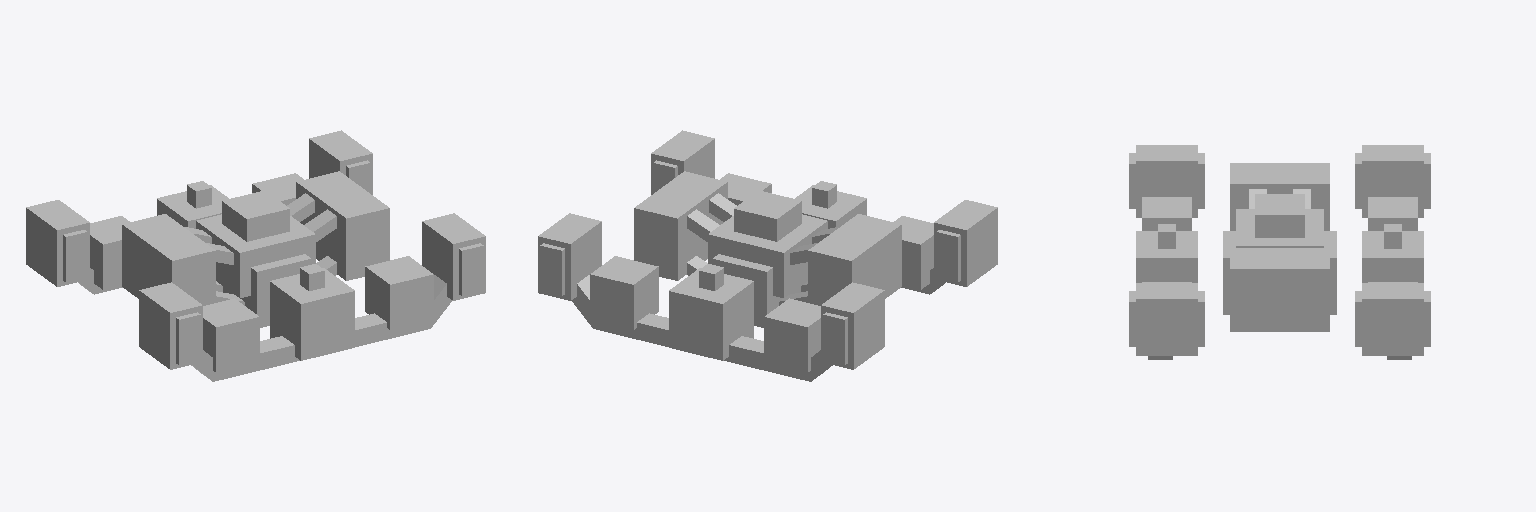
File: frame.obj
The picture shows the model from 3 angles: view 1: azimuth 30°, elevation 25°; view 2: azimuth 150°, elevation 25°; view 3: azimuth 270°, elevation 25°; orthographic projection.
Parts seen in each view (by area): view 1: cube_27, cube_32, cube_12, cube_31, cube_16, cube_29, cube_4, cube_1, cube_7, cube_14, cube_38, cube_28 (+12 smaller); view 2: cube_27, cube_32, cube_19, cube_30, cube_16, cube_28, cube_1, cube_4, cube_10, cube_14, cube_33, cube_29 (+12 smaller); view 3: cube_32, cube_7, cube_10, cube_27, cube_1, cube_4, cube_12, cube_19, cube_14, cube_16, cube_28, cube_29 (+1 smaller).
Boxes of the visible parts, <box> form: cube_27: <box>122,214,215,305</box>; cube_32: <box>296,171,389,280</box>; cube_12: <box>270,268,354,360</box>; cube_31: <box>365,256,433,329</box>; cube_16: <box>196,214,315,297</box>; cube_29: <box>203,298,259,372</box>; cube_4: <box>26,200,89,286</box>; cube_1: <box>139,282,202,369</box>; cube_7: <box>422,213,485,300</box>; cube_14: <box>222,190,289,241</box>; cube_38: <box>213,313,430,381</box>; cube_28: <box>90,216,129,289</box>; cube_27: <box>808,214,901,305</box>; cube_32: <box>634,171,727,280</box>; cube_19: <box>669,268,753,360</box>; cube_30: <box>590,256,658,329</box>; cube_16: <box>708,214,827,297</box>; cube_28: <box>764,298,820,372</box>; cube_1: <box>934,200,997,286</box>; cube_4: <box>821,282,884,369</box>; cube_10: <box>538,213,601,300</box>; cube_14: <box>734,190,801,241</box>; cube_33: <box>593,313,810,381</box>; cube_29: <box>894,216,933,289</box>; cube_32: <box>1230,248,1329,331</box>; cube_7: <box>1136,283,1197,355</box>; cube_10: <box>1362,283,1423,355</box>; cube_27: <box>1230,163,1329,230</box>; cube_1: <box>1136,145,1197,217</box>; cube_4: <box>1362,145,1423,217</box>; cube_12: <box>1136,231,1197,282</box>; cube_19: <box>1362,231,1423,282</box>; cube_14: <box>1255,194,1304,237</box>; cube_16: <box>1236,209,1323,247</box>; cube_28: <box>1368,197,1417,230</box>; cube_29: <box>1142,197,1191,230</box>.
Bounding box in the file's own units: 3.62 × 1.13 × 3.